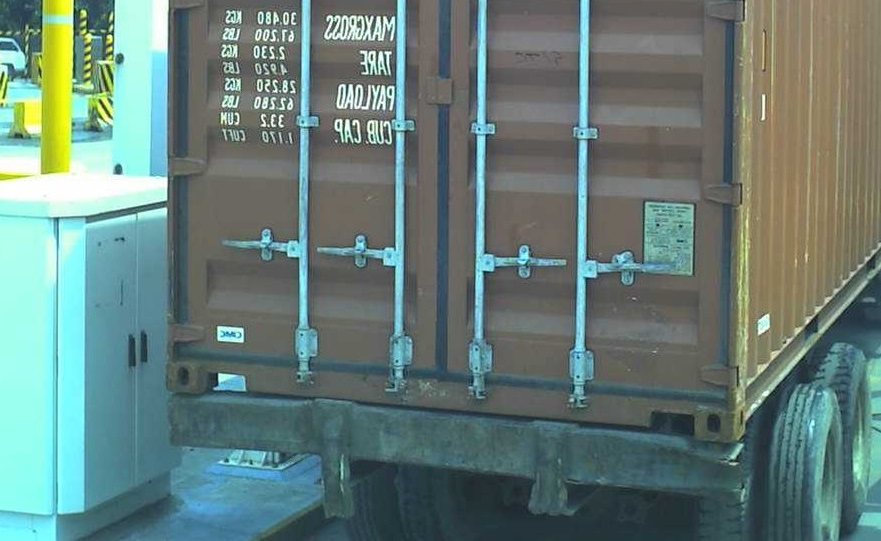container_door: (162, 1, 742, 448)
